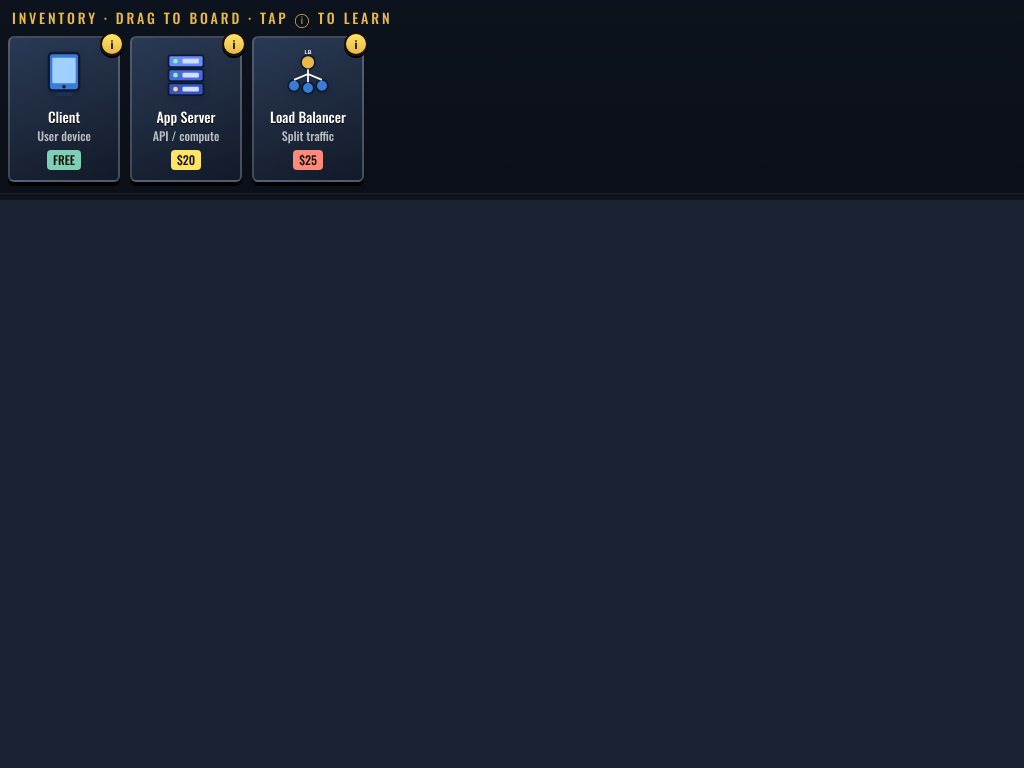
Test: ComponentPalette info panel › opens the detailed info panel from the info button
The width and height of the screenshot is (1024, 768).
Click the button named "what is client": {"x": 112, "y": 44} [100,32,124,56]
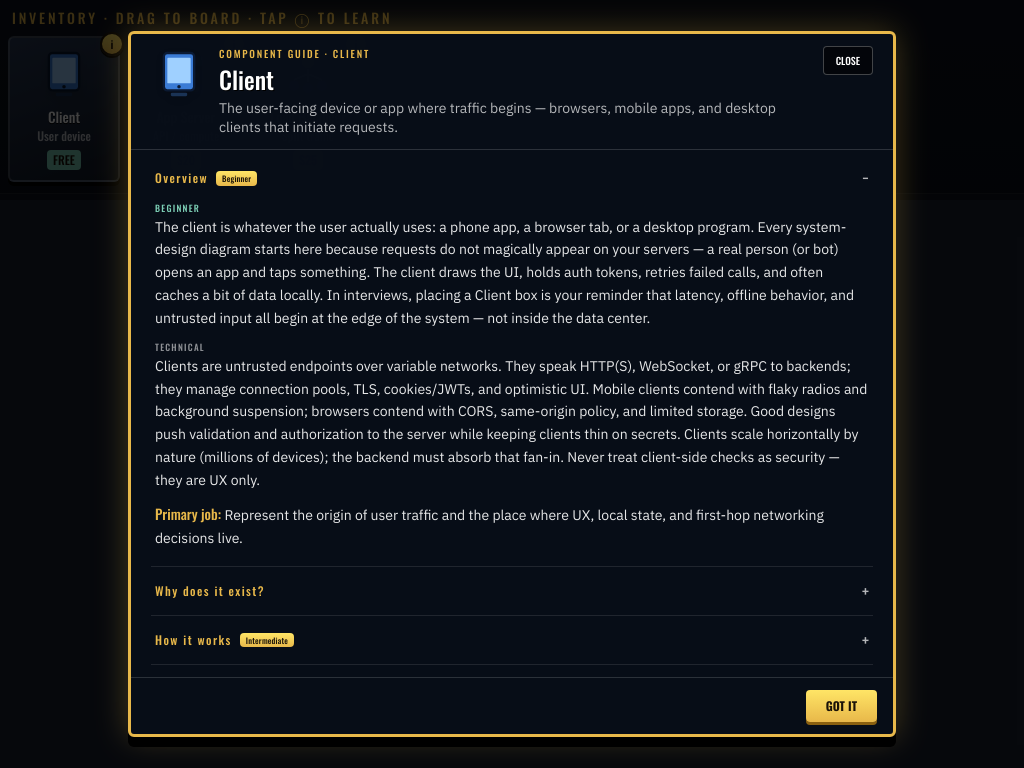
Now the dialog "CLIENT" is shown
Now the text "COMPONENT GUIDE · CLIENT" is shown, box [219,46,370,61]
Now the text "Beginner" is shown, box [216,171,257,186]
